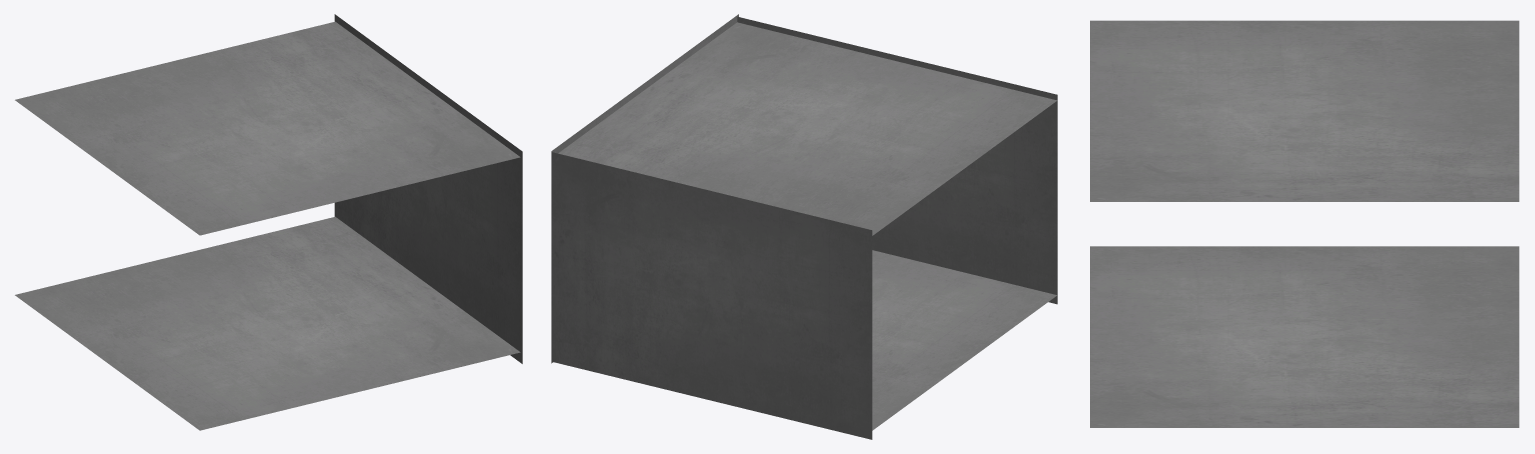
Rendered from Hangar.gltf.
The picture shows the model from 3 angles, left to right: view 1: azimuth 30°, elevation 25°; view 2: azimuth 150°, elevation 25°; view 3: azimuth 270°, elevation 25°; orthographic projection. The views are drawn at different scales.
Parts seen in each view (by area): view 1: plane2, plane1, plane4; view 2: plane3, plane1, plane4_2, plane2, plane4; view 3: plane2, plane1.
Boxes of the visible parts, x1=… form: plane2: x1=15, y1=216, x2=520, y2=430; plane1: x1=15, y1=21, x2=520, y2=235; plane4: x1=334, y1=14, x2=522, y2=363; plane3: x1=552, y1=152, x2=872, y2=439; plane1: x1=558, y1=22, x2=1057, y2=235; plane4_2: x1=737, y1=16, x2=1057, y2=304; plane2: x1=872, y1=250, x2=1056, y2=430; plane4: x1=551, y1=14, x2=738, y2=363; plane2: x1=1090, y1=246, x2=1519, y2=427; plane1: x1=1090, y1=20, x2=1519, y2=201.
Size of the model in its own units: 24 by 15.2 by 24.31.
1 material, 1 textured.
